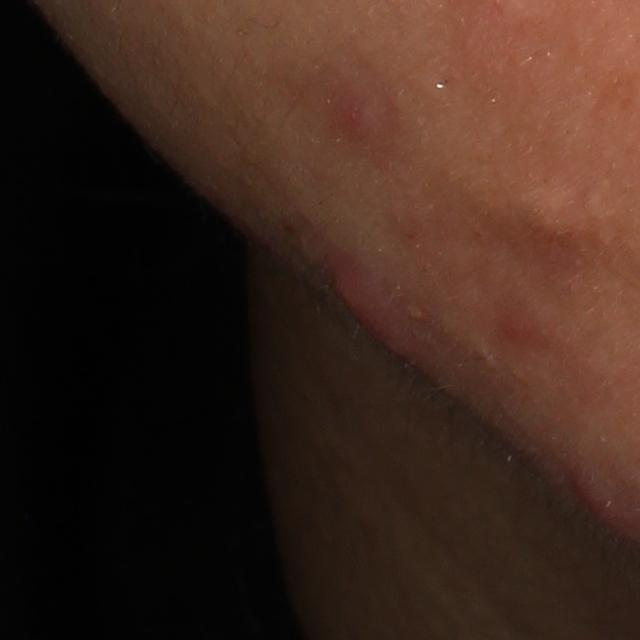hypertrophic_scar: (511, 184, 585, 252)
papule: (324, 261, 434, 380), (326, 91, 379, 138)
